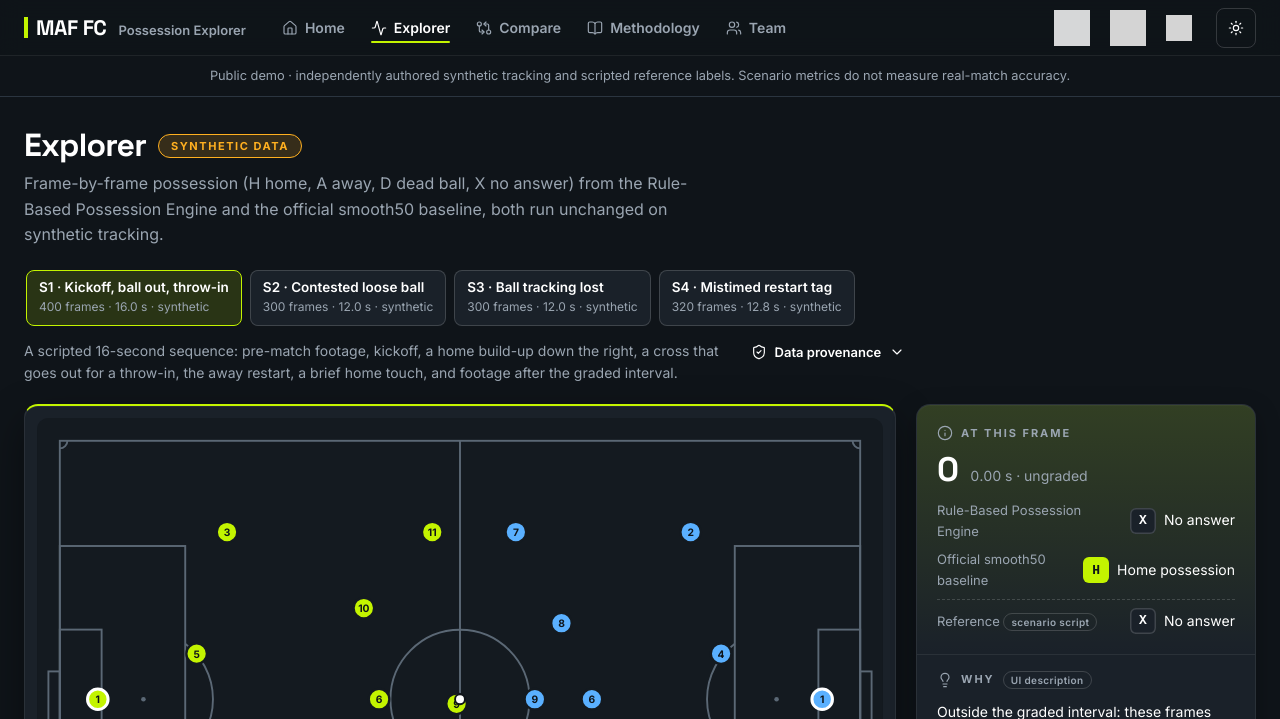
Scenario: UI2-02: scenario selection creates browser history entries › navigating between Explorer and Compare keeps the current scenario
Click the radio button labelled "S2 · Contested loose ball 300 frames · 12.0 s · synthetic".
click(348, 298)  # box [250,270,446,326]
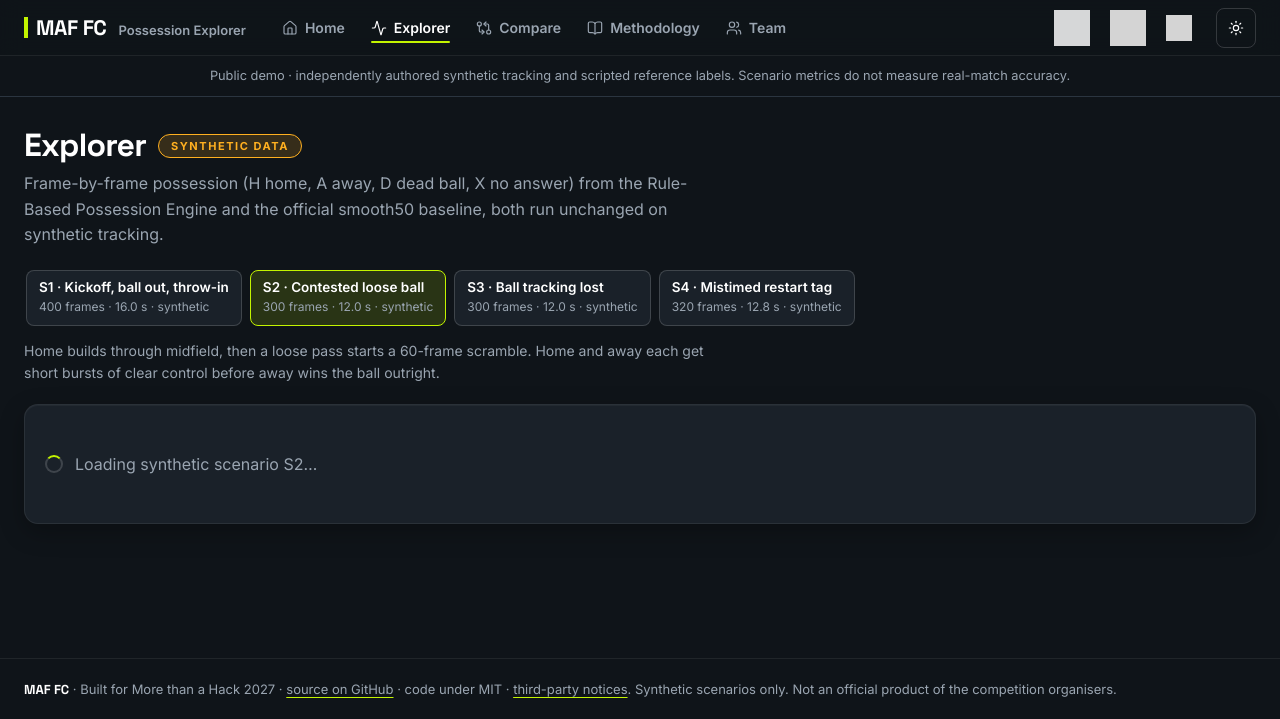
Click the link "Compare".
click(519, 28)  # box [464,10,573,46]
(page scrolled)
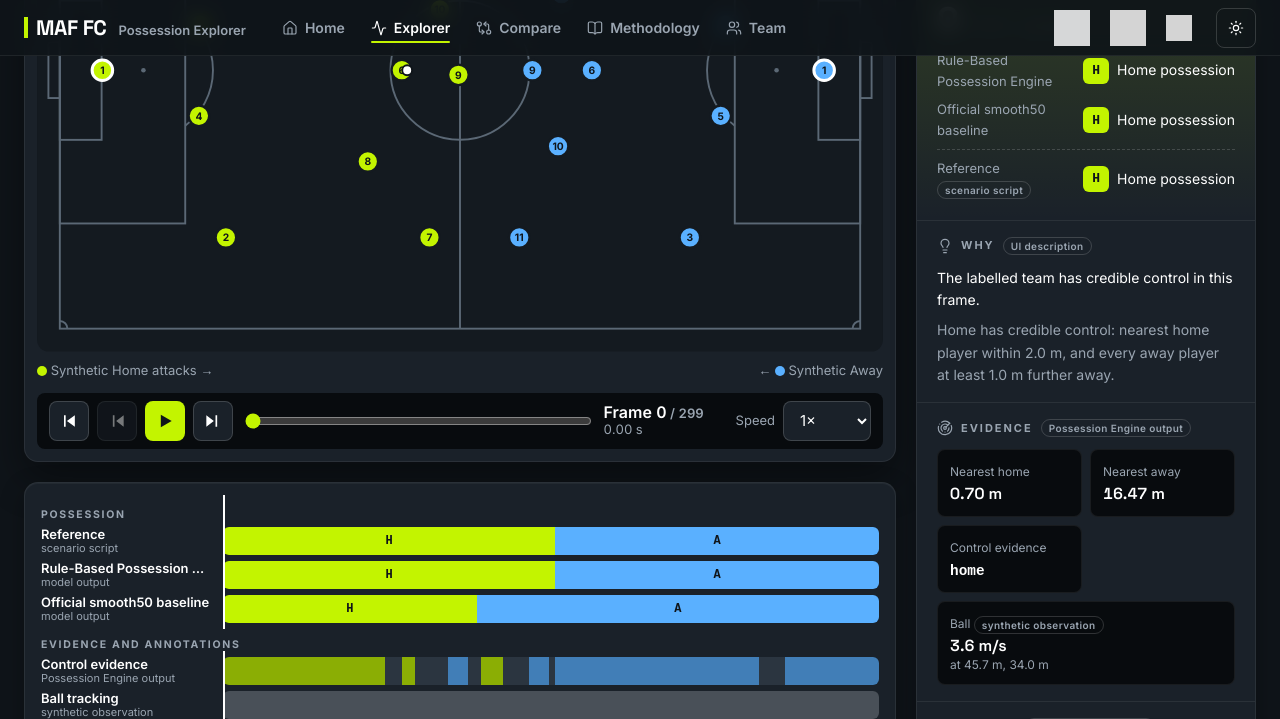
Expected: the element with test id "readout" shows "/ 299", [604,402,704,437]
